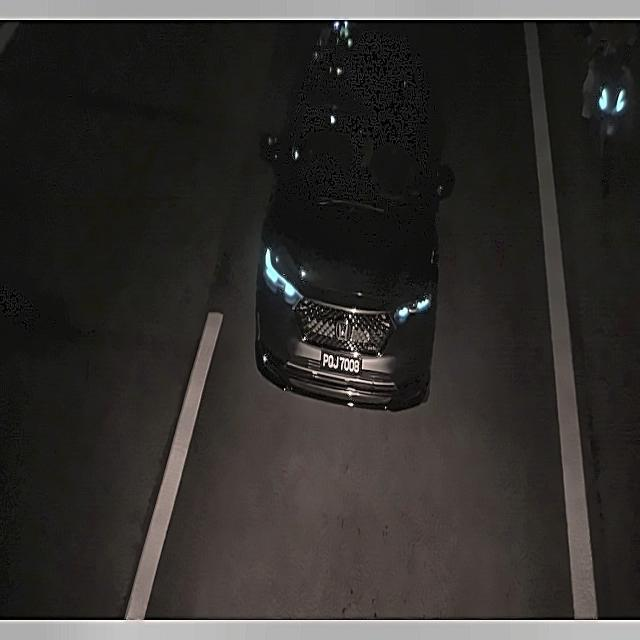car: (316, 345, 366, 386)
